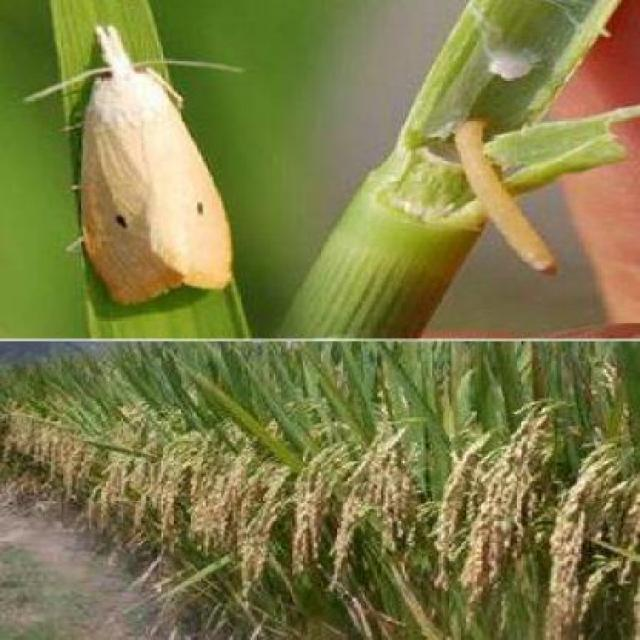stem-borer: (38, 21, 242, 308)
